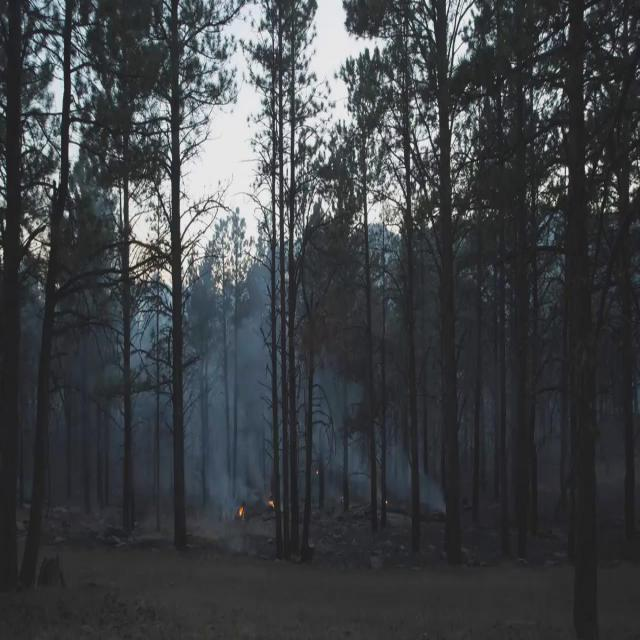Fire: (236, 503, 244, 518), (268, 498, 274, 510)
